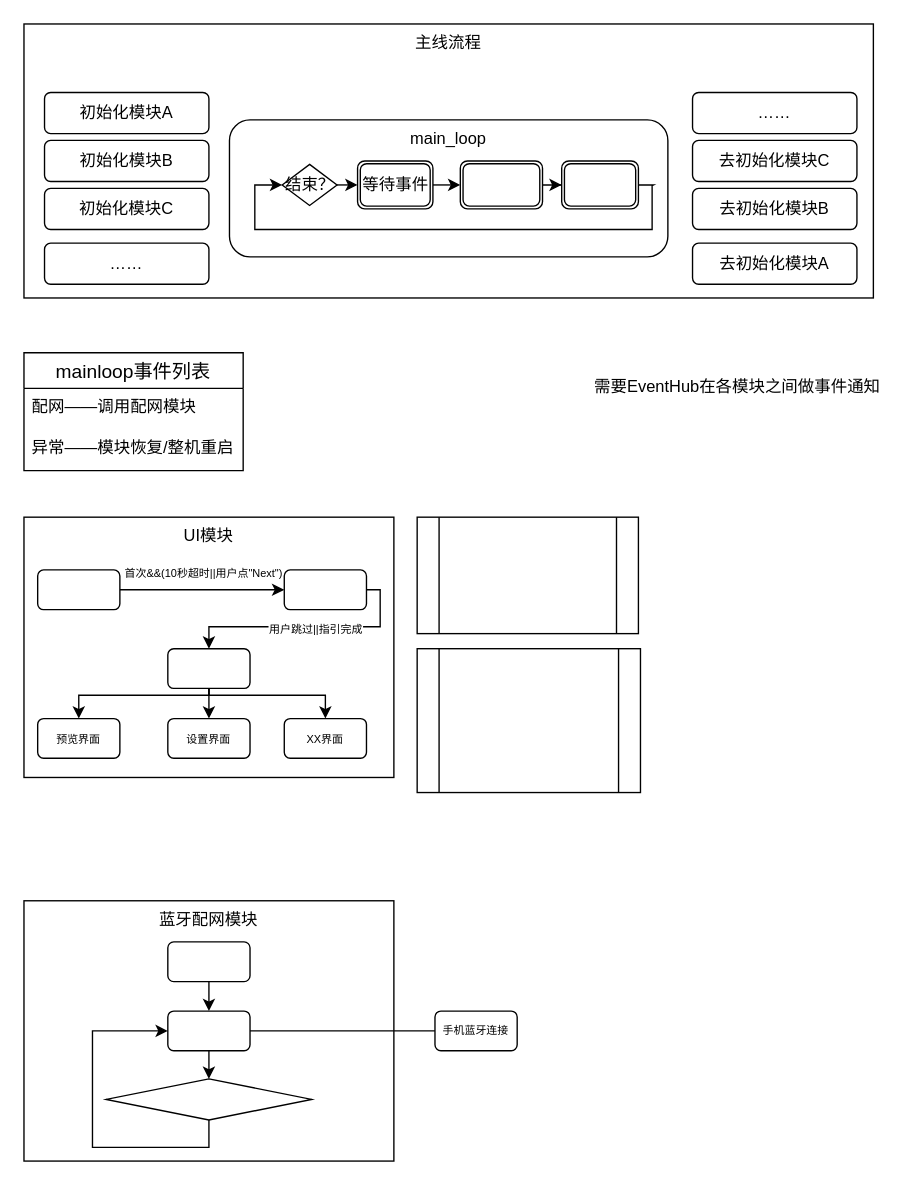
The diagram is 912 pixels wide and 1185 high, and some of its shapes have lost their labels. The shapes that lost their labels are listed below. From the top down, each one's centre as x and y in pixels, then its label:
point 501,184: 处理事件
point 599,184: 清除事件
point 78,589: 进入欢迎界面 （开机默认）
point 324,589: 安装指引
point 527,575: UI模块要处理的事件： 1. 蓝牙模块的执行结果通知（显示）
point 208,667: 主功能界面
point 528,720: UI模块产生的外部事件： 1、触发配网 2、启动预览 3、熄屏休眠 4、触屏唤醒
point 208,961: 启动BLE/GATT
point 208,1030: 广播-Loop
point 208,1099: 成功/失败/超时退出
